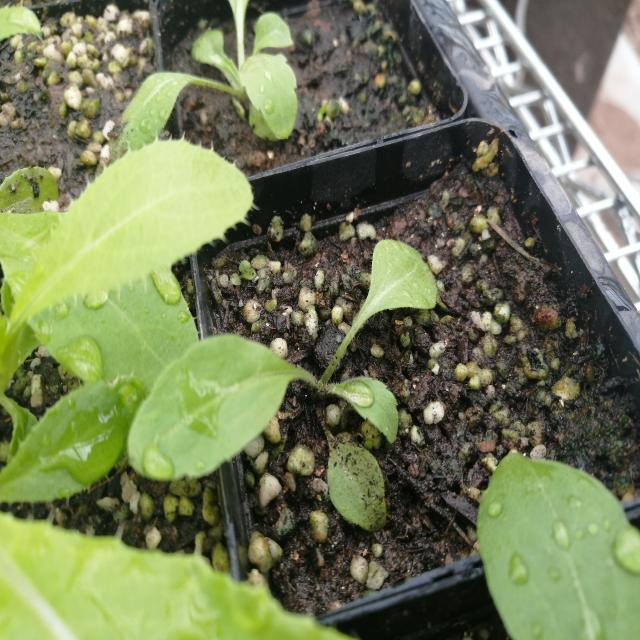horseweed: (137, 227, 433, 530), (114, 0, 316, 151)
